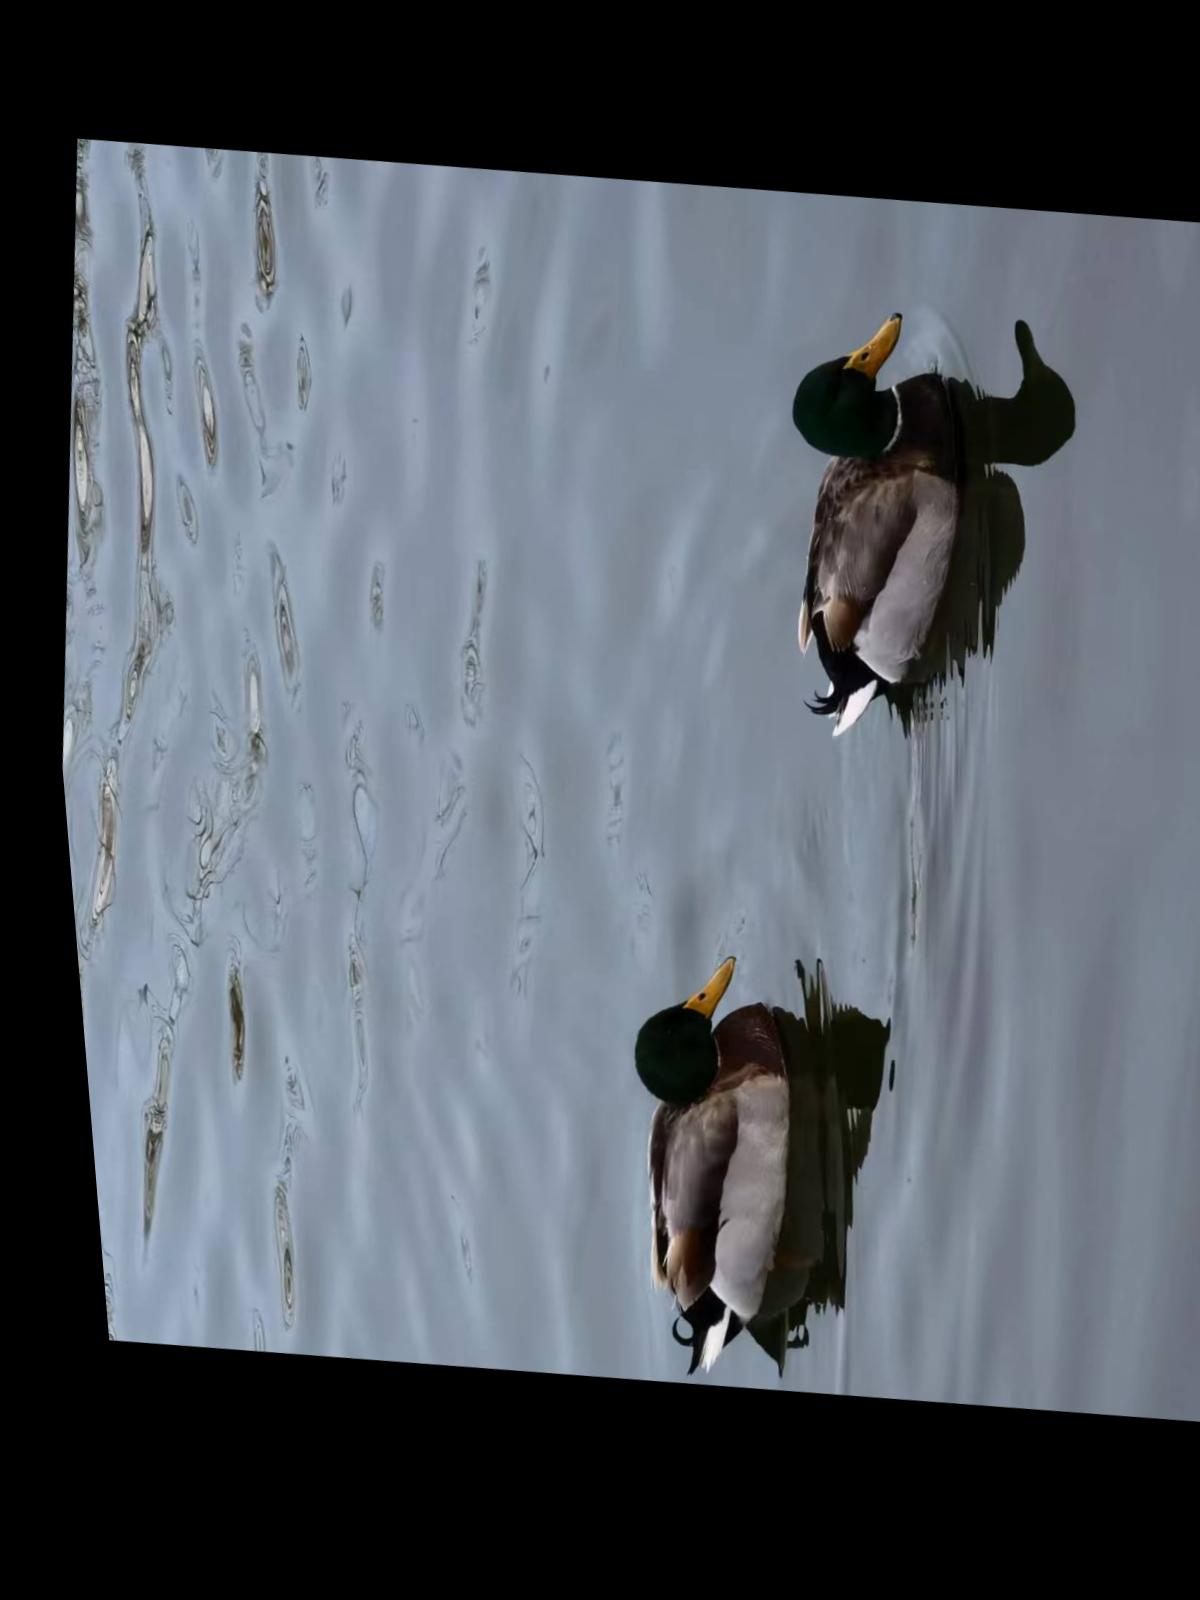duck: (735, 311, 1006, 763), (558, 941, 819, 1398)
